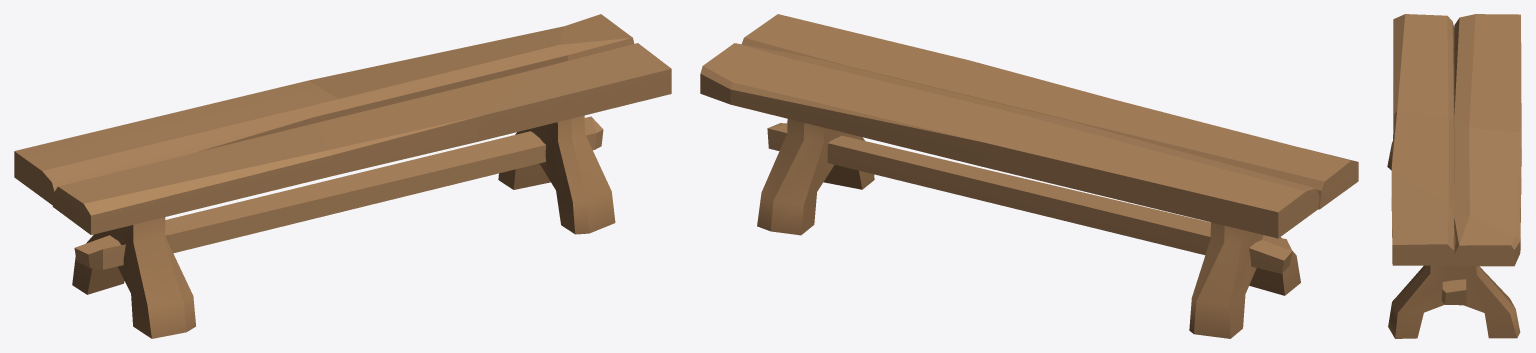
Rendered from Bench_C.fbx.
3 renders of one model, left to right at view 1: azimuth 30°, elevation 25°; view 2: azimuth 150°, elevation 25°; view 3: azimuth 270°, elevation 25°, orthographic. The views are drawn at different scales.
Parts seen in each view (by area): view 1: Bench_C; view 2: Bench_C; view 3: Bench_C.
Boxes of the visible parts, bbox=[...] form: Bench_C: bbox=[14, 14, 671, 338]; Bench_C: bbox=[700, 14, 1358, 338]; Bench_C: bbox=[1387, 14, 1521, 338].
Size of the model in its own units: 199 by 47.95 by 48.81.
